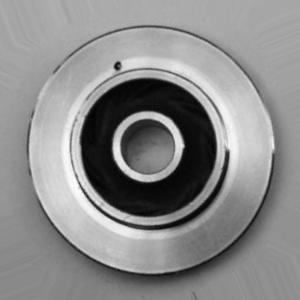pit: (108, 58, 129, 77)
scratch: (20, 61, 65, 134), (214, 111, 244, 162)
unpolished_casting: (25, 26, 276, 278)
